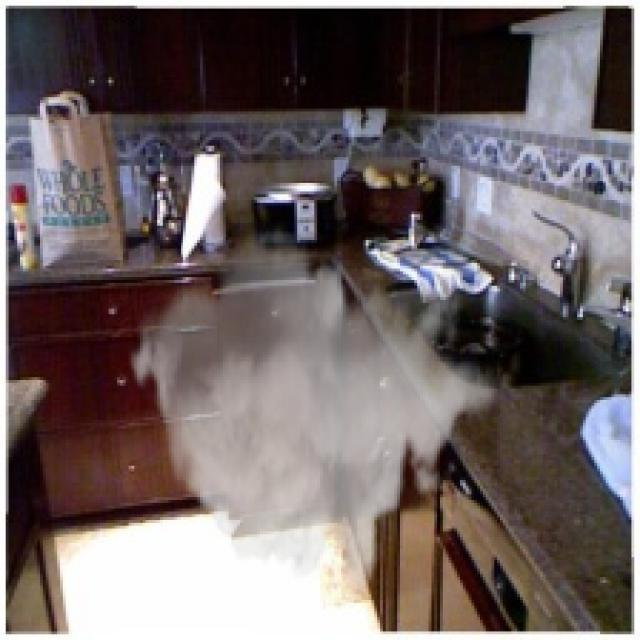Smoke: (126, 217, 497, 600)
